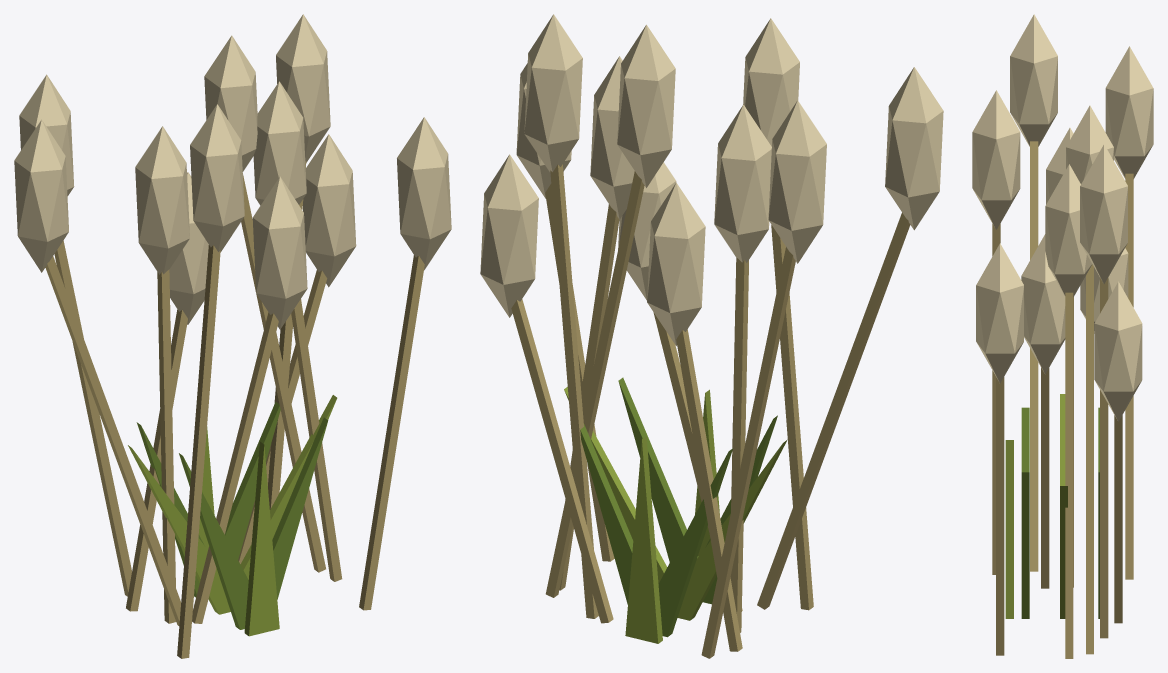
The model's file is pampas.glb.
3 renders of one model, left to right at view 1: azimuth 30°, elevation 25°; view 2: azimuth 150°, elevation 25°; view 3: azimuth 270°, elevation 25°, orthographic. The views are drawn at different scales.
Visible parts, largest first — view 1: pampas; view 2: pampas; view 3: pampas.
Part boxes in pixels (x1,y1,x2,y2): pampas: [14, 14, 451, 658]; pampas: [480, 14, 943, 658]; pampas: [972, 14, 1153, 658].
Size of the model in its own units: 1.6 by 2.09 by 0.6673.
